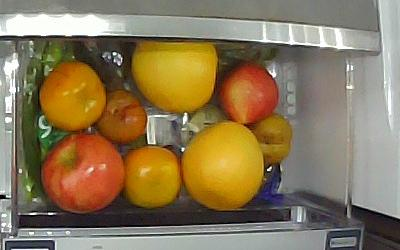apple: (42, 132, 123, 213), (218, 63, 280, 125)
grapefruit: (181, 120, 262, 211), (131, 40, 217, 114)
persimmon: (40, 61, 106, 131), (123, 147, 182, 208)
prune: (94, 88, 147, 146), (254, 113, 294, 167)
